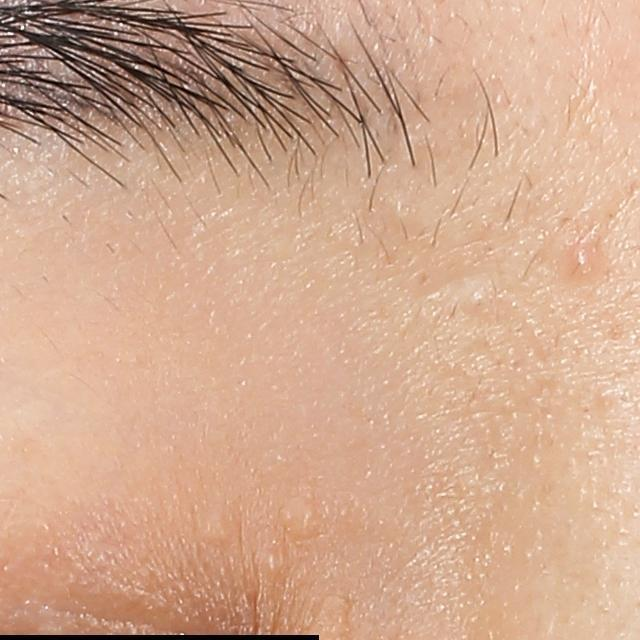comedo: (275, 491, 324, 546), (255, 548, 286, 579), (464, 289, 490, 313)
papule: (568, 243, 595, 276)
